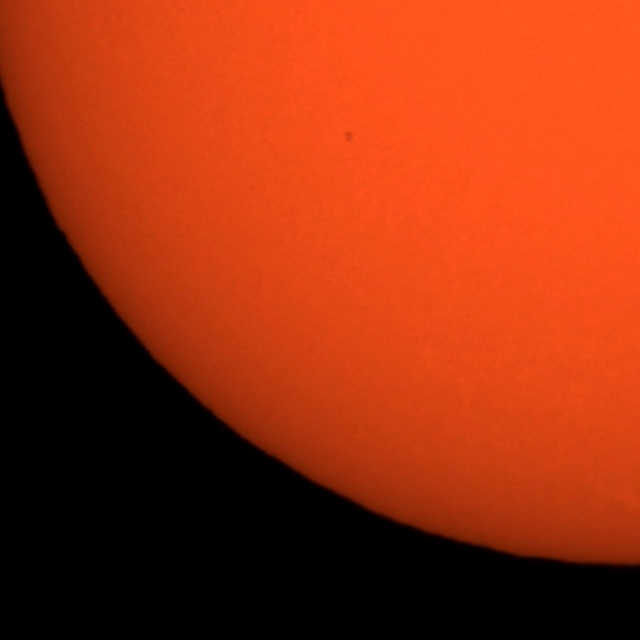sunspot: (341, 129, 356, 144)
